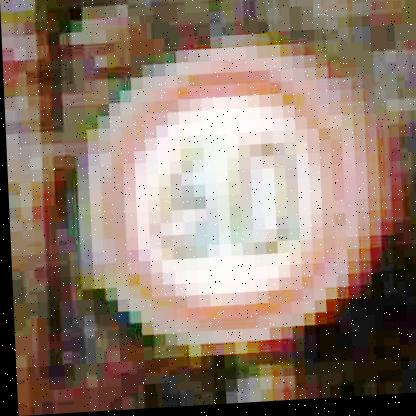Speed Limit -60-: (82, 40, 369, 359)
